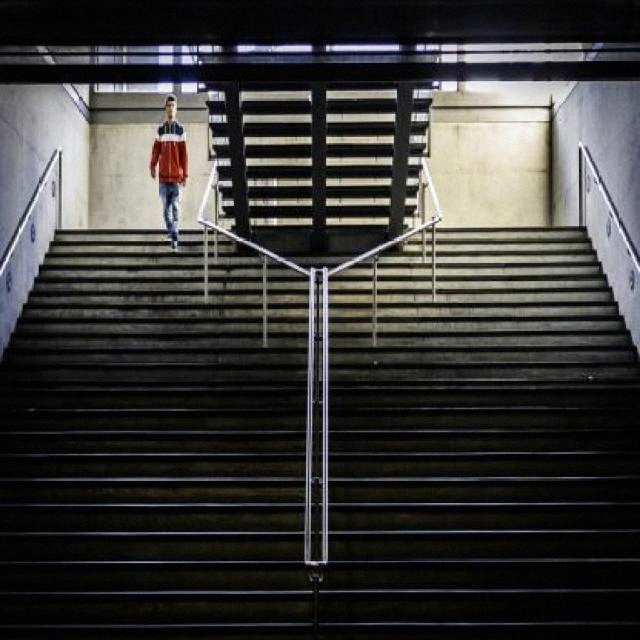stair: (0, 226, 640, 640)
